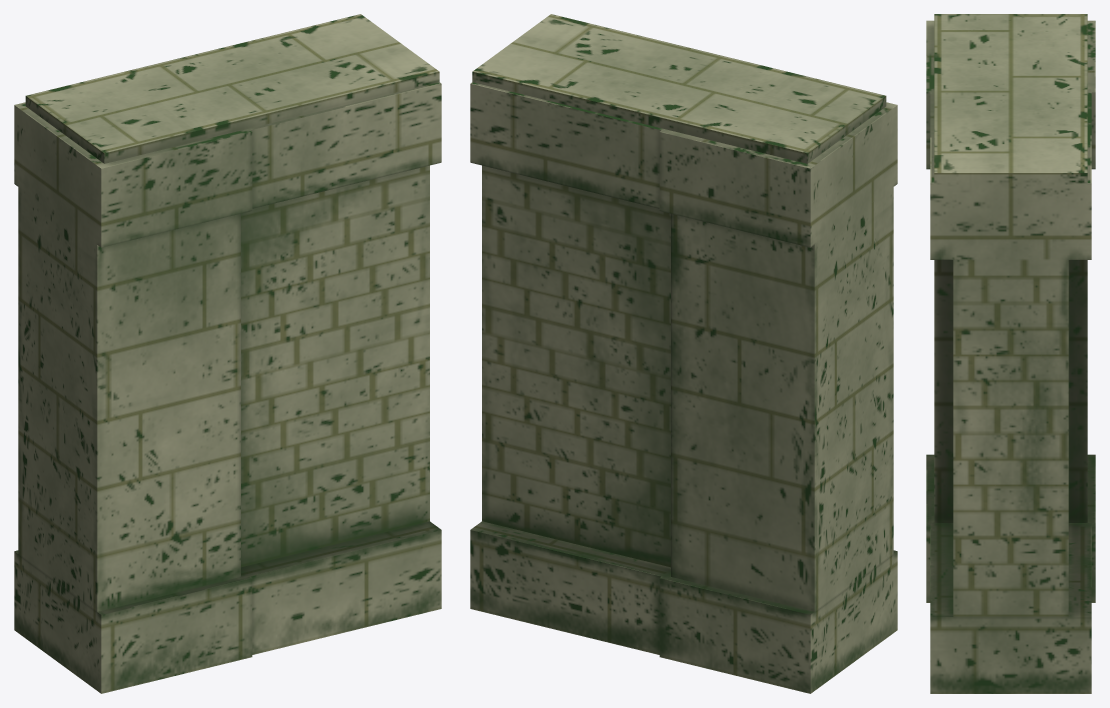
Rendered from Half Wall.fbx.
3 views of the same model, side by side, from view 1: azimuth 30°, elevation 25°; view 2: azimuth 150°, elevation 25°; view 3: azimuth 270°, elevation 25° (orthographic). The views are drawn at different scales.
Visible parts, largest first — view 1: Half Wall; view 2: Half Wall; view 3: Half Wall.
Boxes of the visible parts, x1,y1,x2,y2 form: Half Wall: (14, 14, 441, 693); Half Wall: (470, 14, 897, 693); Half Wall: (926, 14, 1095, 693).
Bounding box in the file's own units: 342 × 511 × 151.
Materials: 1 (1 with a texture image).
